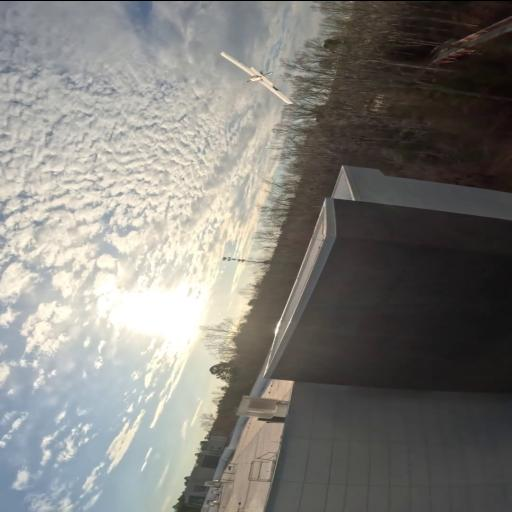uav: (218, 46, 296, 104)
